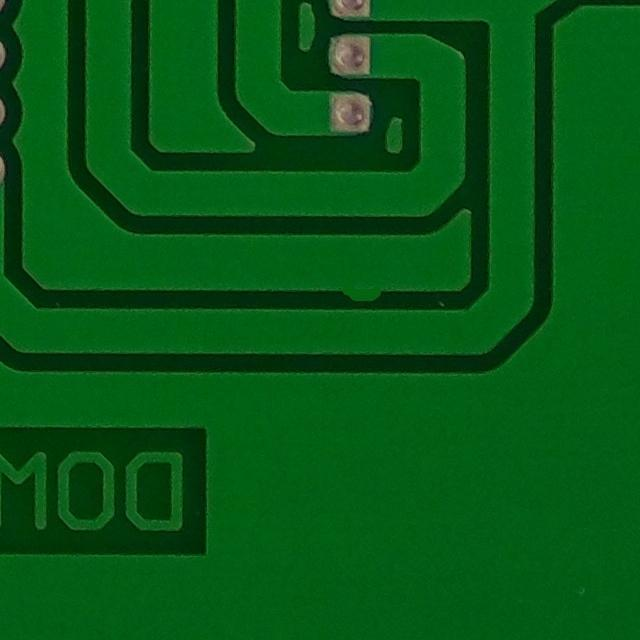spur: (326, 251, 399, 310)
